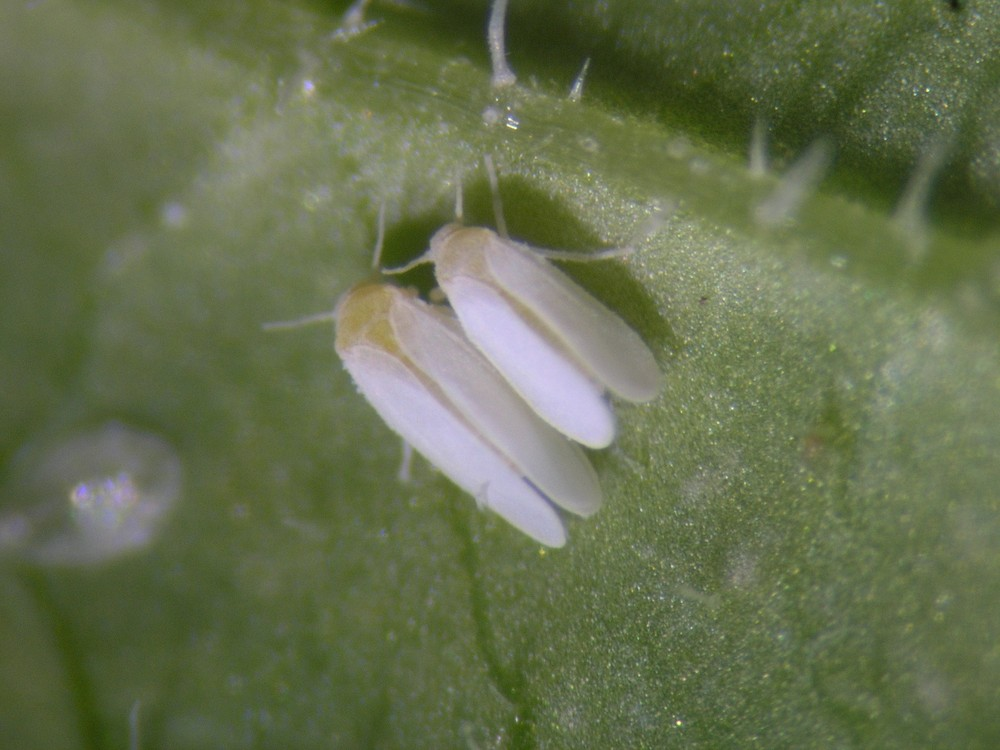Mosca Blanca: (310, 252, 602, 569), (417, 188, 704, 454)
